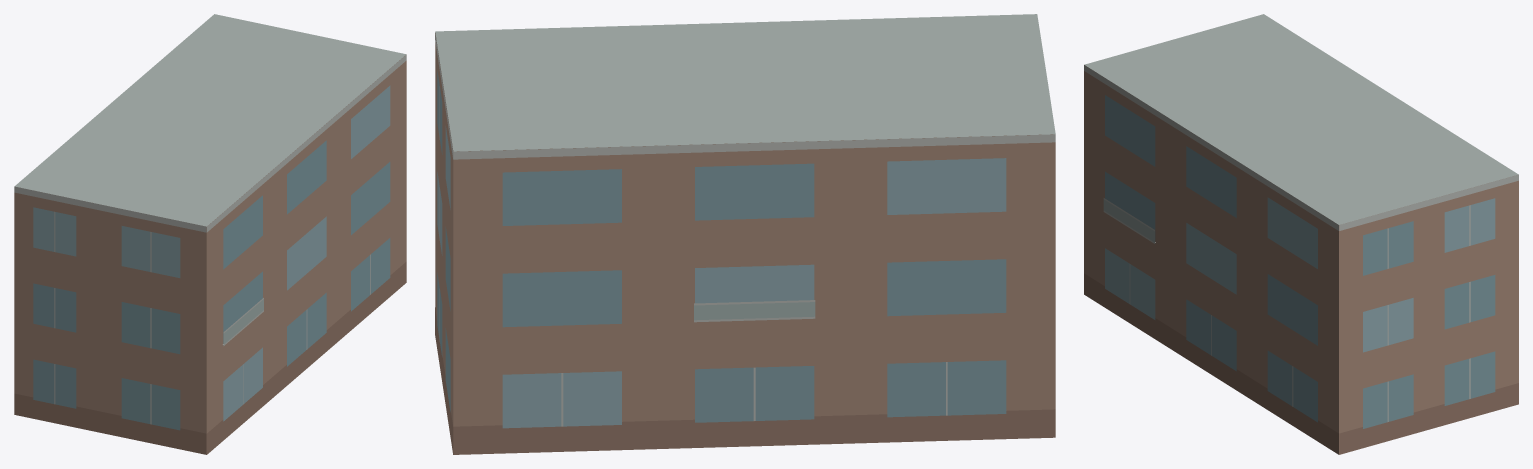
File: survey-upis-32991318.glb
3 renders of one model, left to right at view 1: azimuth 30°, elevation 25°; view 2: azimuth 150°, elevation 25°; view 3: azimuth 270°, elevation 25°, orthographic. The views are drawn at different scales.
Visible parts, largest first — view 1: survey-upis-32991318.tmp; view 2: survey-upis-32991318.tmp; view 3: survey-upis-32991318.tmp.
Part boxes in pixels (x1,y1,x2,y2): survey-upis-32991318.tmp: (14,14,406,454); survey-upis-32991318.tmp: (435,14,1055,454); survey-upis-32991318.tmp: (1084,14,1518,454).
Bounding box in the file's own units: 18.03 × 9.15 × 15.7.
